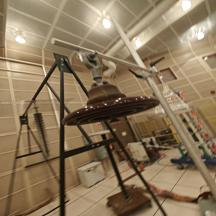insulator: (53, 76, 164, 131)
